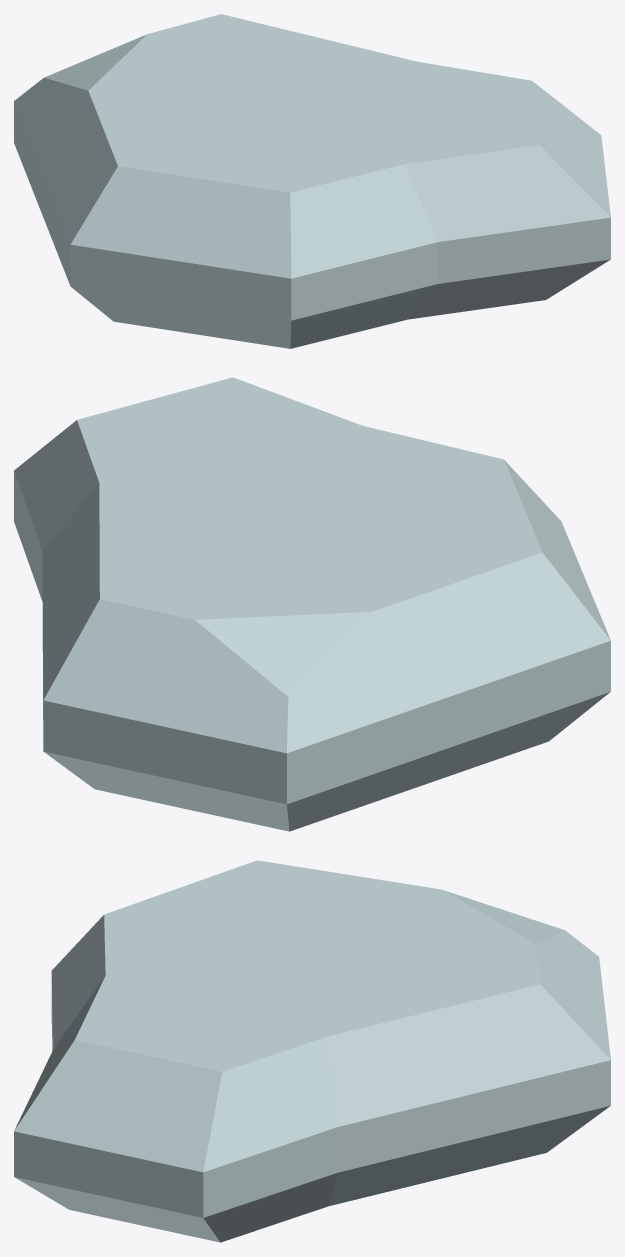
Rendered from stone.glb.
The picture shows the model from 3 angles, top to bottom: view 1: azimuth 30°, elevation 25°; view 2: azimuth 150°, elevation 25°; view 3: azimuth 270°, elevation 25°; orthographic projection. The views are drawn at different scales.
Visible parts, largest first — view 1: stone_largeE.001; view 2: stone_largeE.001; view 3: stone_largeE.001.
Part boxes in pixels (bbox=[...]): stone_largeE.001: bbox=[14, 14, 610, 348]; stone_largeE.001: bbox=[14, 377, 610, 831]; stone_largeE.001: bbox=[14, 860, 610, 1242].
Bounding box in the file's own units: 1.01 × 0.2922 × 0.9419.
